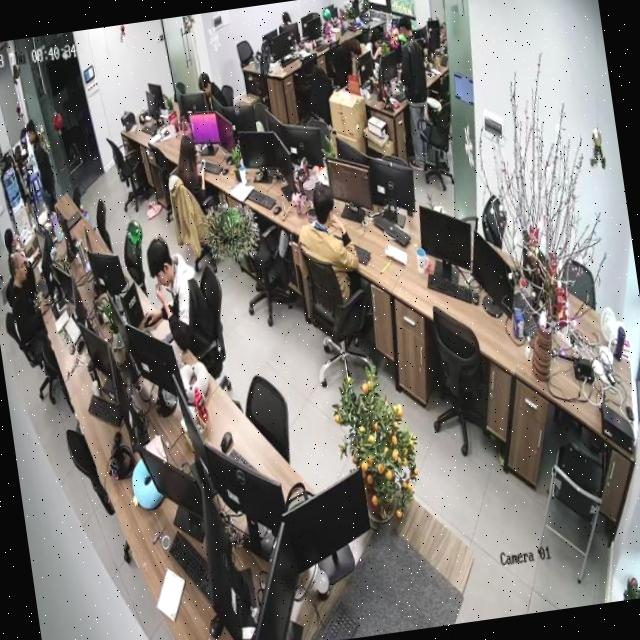person: (141, 231, 228, 394), (291, 179, 371, 320), (392, 16, 440, 166), (1, 248, 49, 343), (26, 118, 63, 232), (163, 134, 211, 221), (333, 35, 370, 94), (198, 72, 229, 119), (1, 225, 23, 258)
